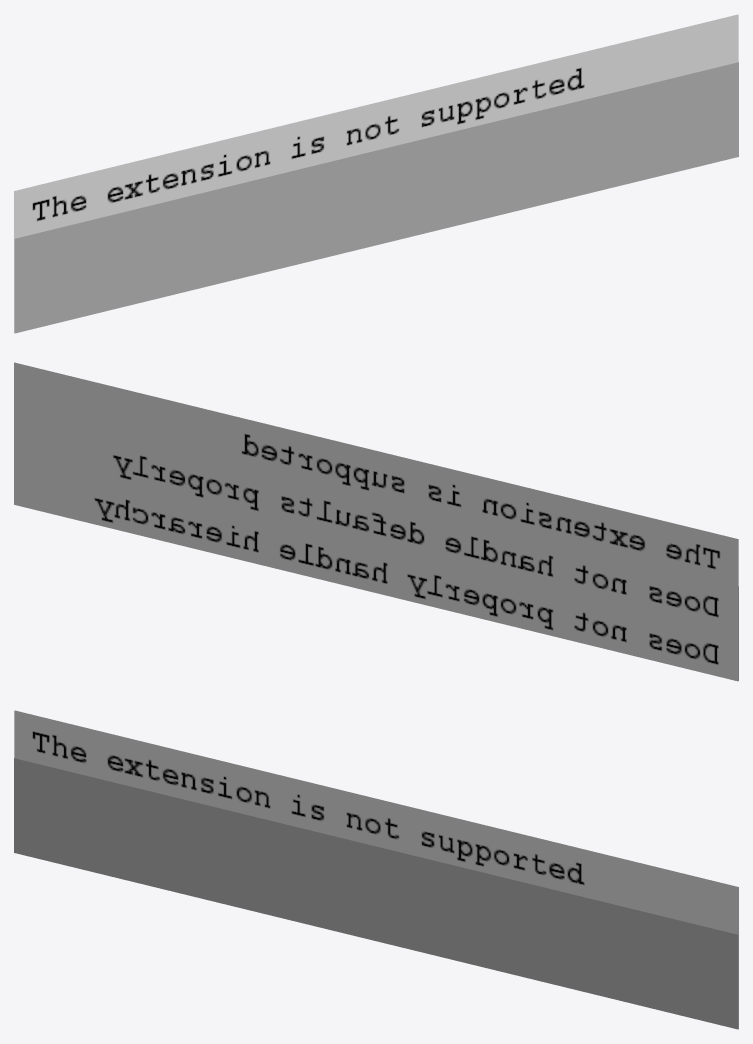
Rendered from khrNodeVisibility001.gltf.
3 renders of one model, top to bottom at view 1: azimuth 30°, elevation 25°; view 2: azimuth 150°, elevation 25°; view 3: azimuth 330°, elevation 25°, orthographic.
Parts seen in each view (by area): view 1: visible:false (×3), object 1, visible:undefined; view 2: object 1, object 4, visible:true, visible:false; view 3: visible:false (×3), object 1, visible:undefined.
Part boxes in pixels (left/top/right/bottom): visible:false (×3): left=14, top=14, right=738, bottom=333; object 1: left=14, top=14, right=737, bottom=237; visible:undefined: left=14, top=62, right=738, bottom=285; object 1: left=14, top=362, right=738, bottom=586; object 4: left=14, top=410, right=738, bottom=633; visible:true: left=14, top=457, right=738, bottom=681; visible:false: left=14, top=362, right=738, bottom=586; visible:false (×3): left=14, top=710, right=738, bottom=1029; object 1: left=15, top=710, right=738, bottom=933; visible:undefined: left=14, top=758, right=738, bottom=981.
Size of the model in its own units: 16 by 3 by 0.02.
